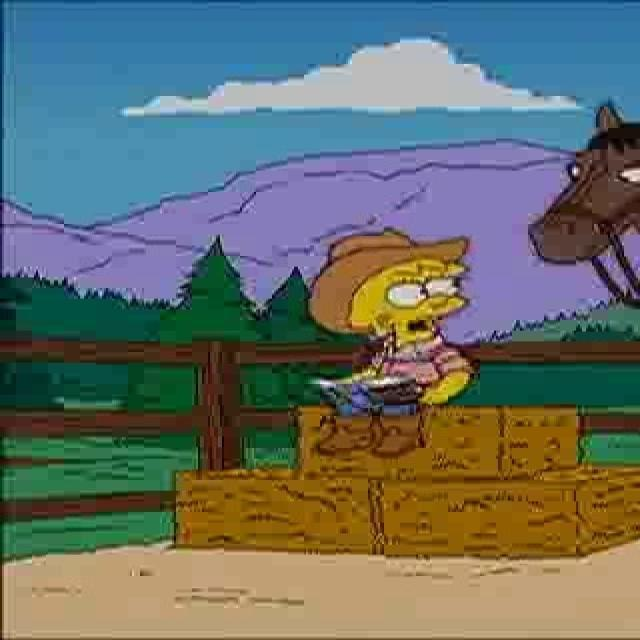Lisa Simpson: (345, 254, 475, 351)
